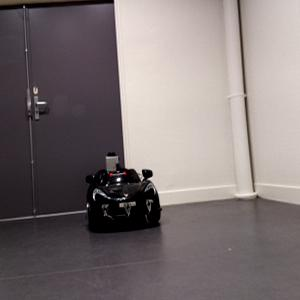big: (85, 168, 163, 233)
